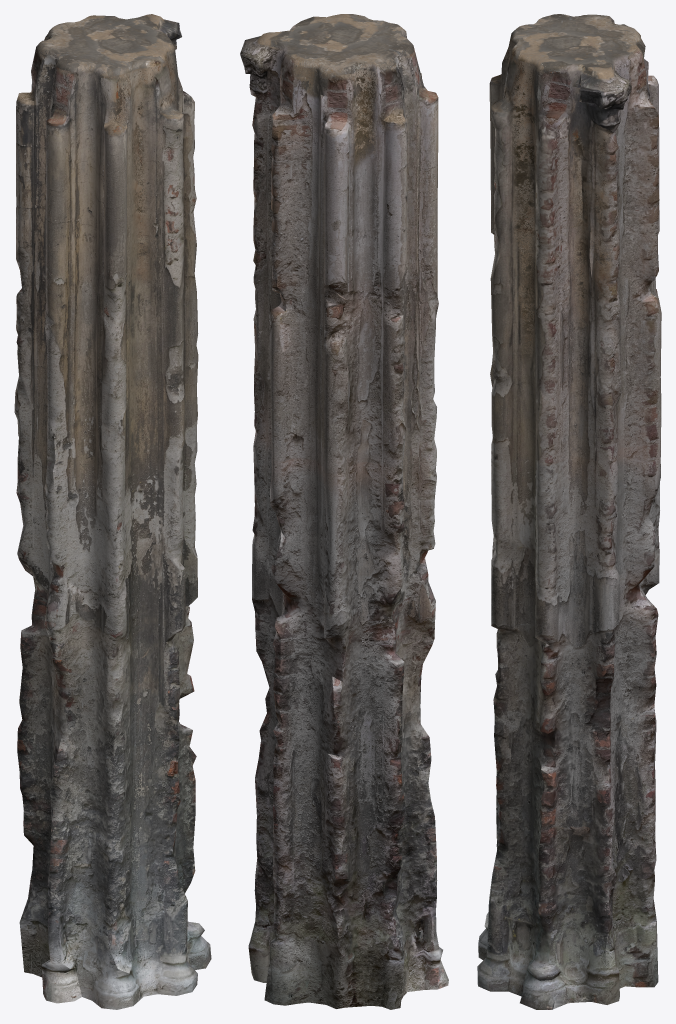
Rendered from sm_ChapelColumn_02_01.fbx.
3 views of the same model, side by side, from view 1: azimuth 30°, elevation 25°; view 2: azimuth 150°, elevation 25°; view 3: azimuth 270°, elevation 25° (orthographic).
Parts seen in each view (by area): view 1: sm_ChapelColumn_02_01_LOD0; view 2: sm_ChapelColumn_02_01_LOD0; view 3: sm_ChapelColumn_02_01_LOD0.
Boxes of the visible parts, box(x1,y1,x2,y2) form: sm_ChapelColumn_02_01_LOD0: box(14, 14, 211, 1009); sm_ChapelColumn_02_01_LOD0: box(240, 14, 448, 1009); sm_ChapelColumn_02_01_LOD0: box(477, 14, 661, 1009).
Bounding box in the file's own units: 74.27 × 69.47 × 386.
